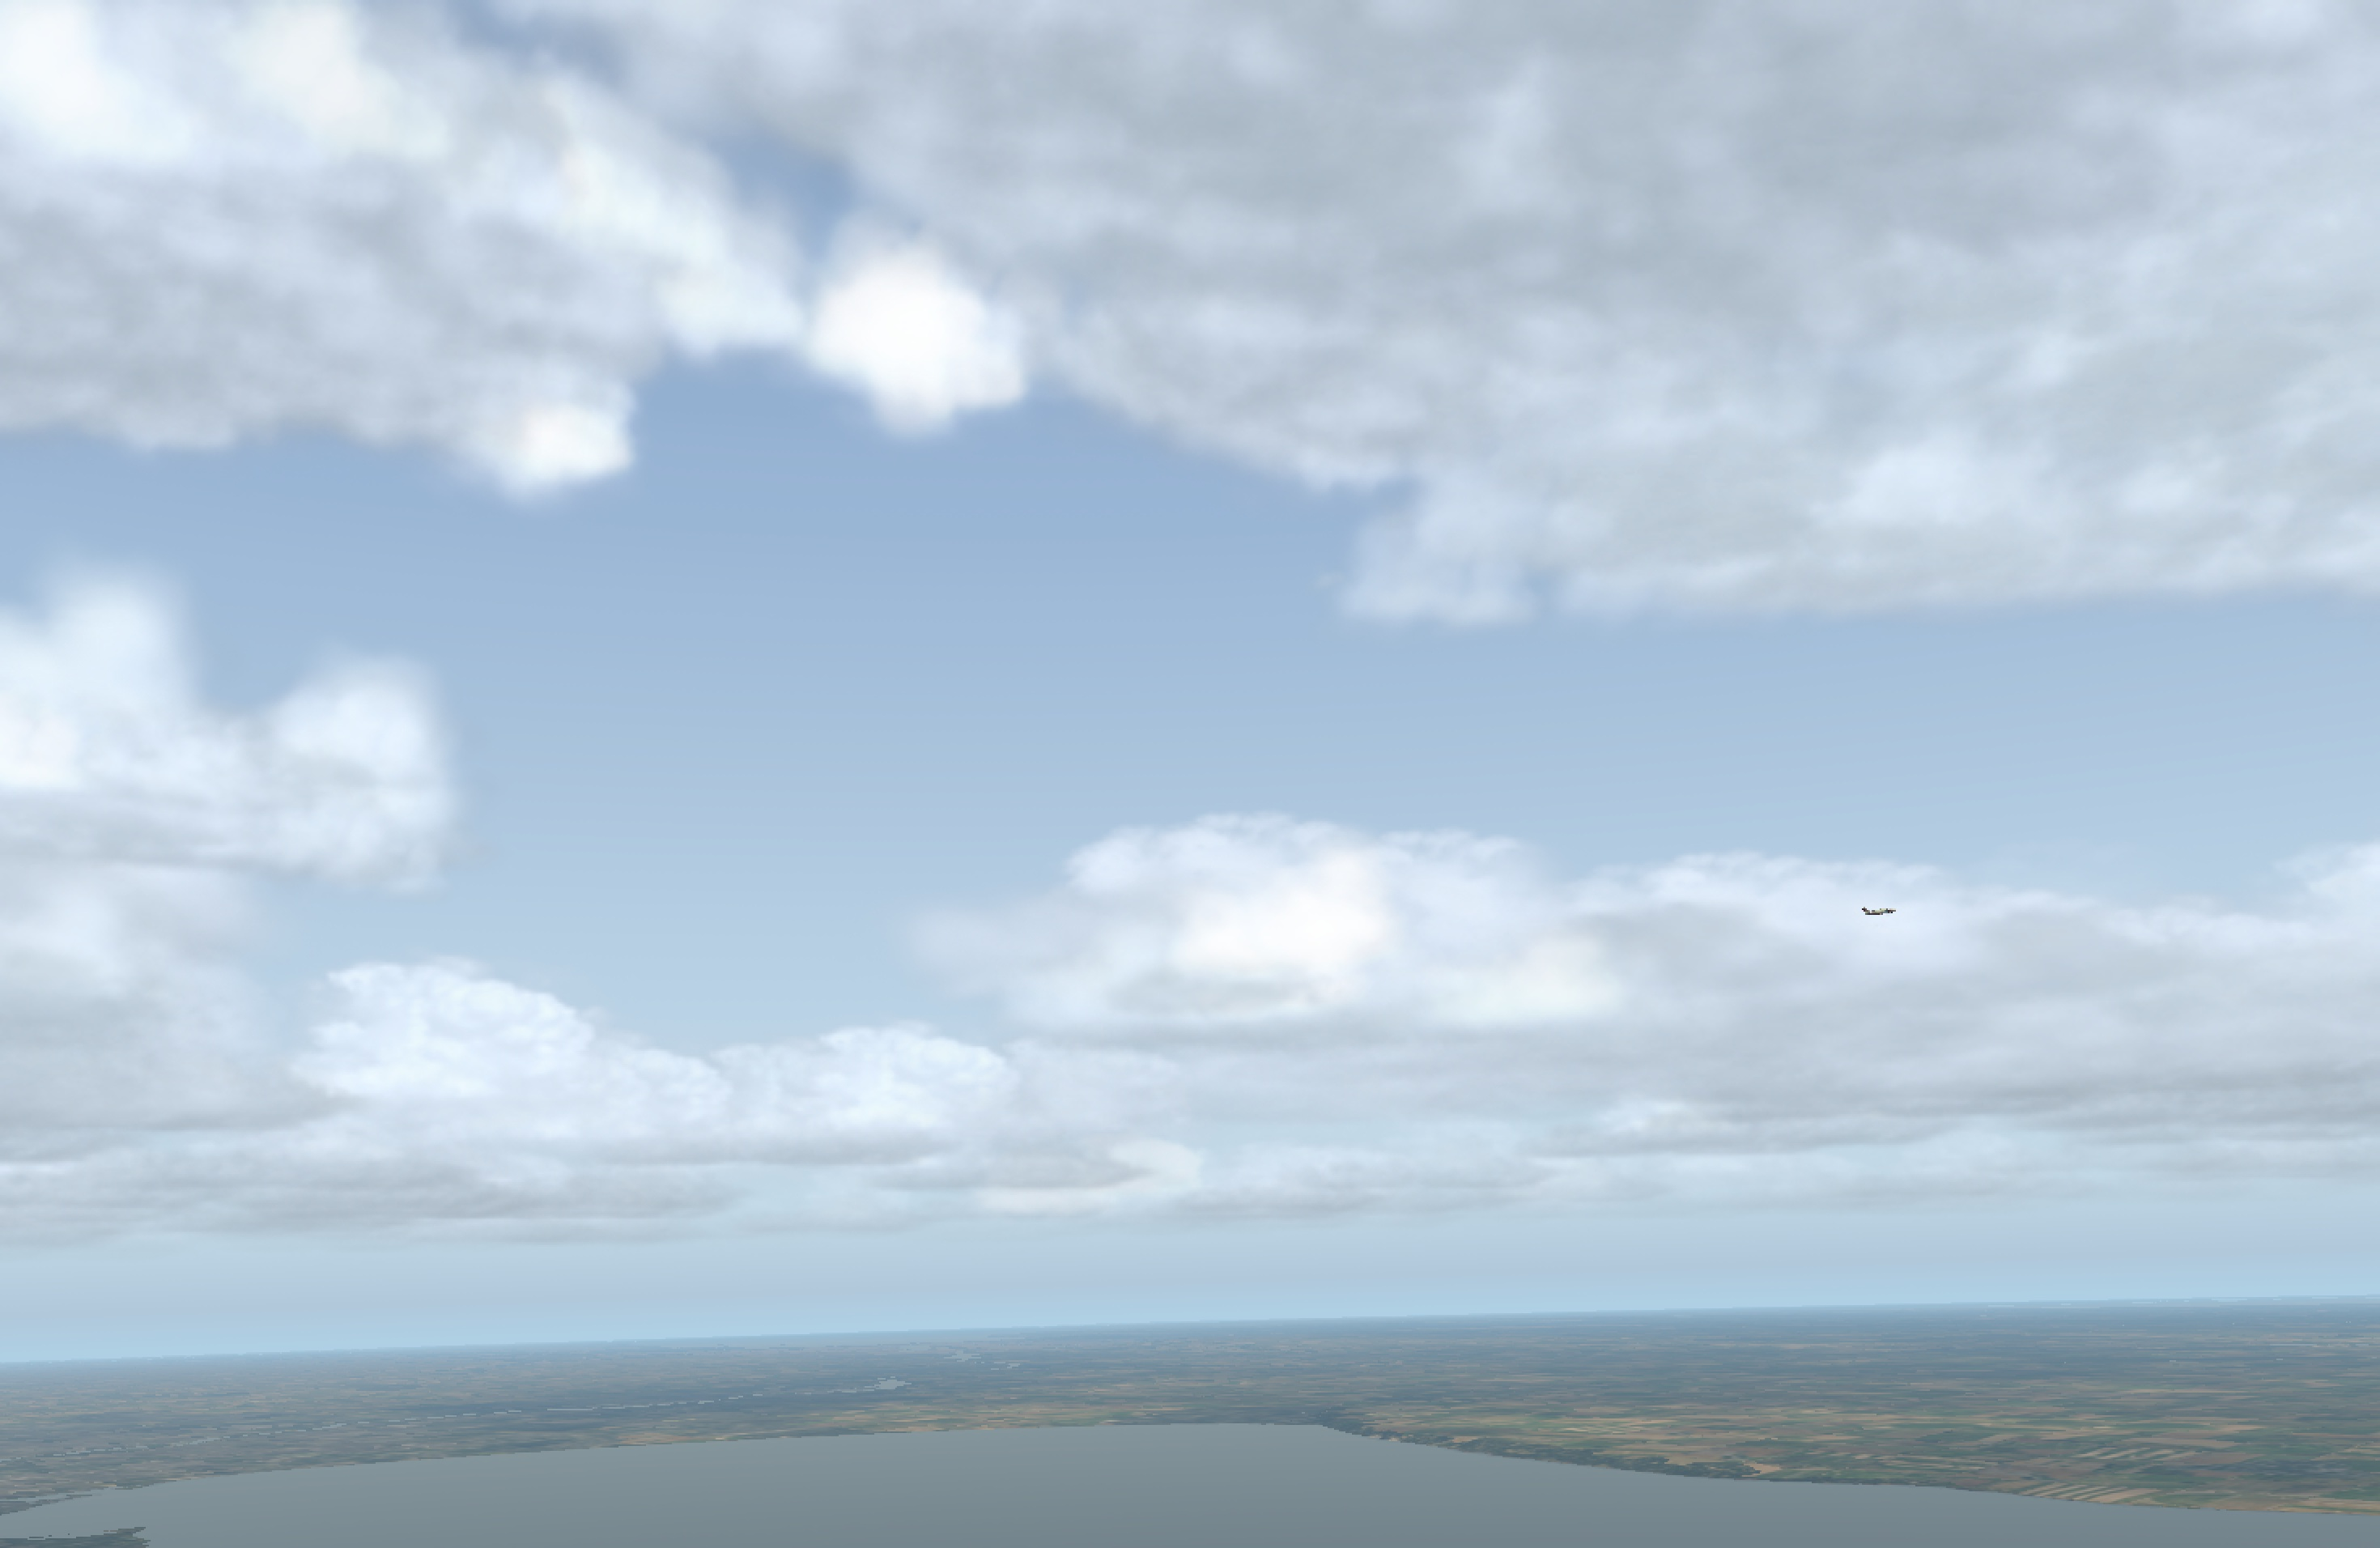aircraft: (1865, 904, 1908, 922)
